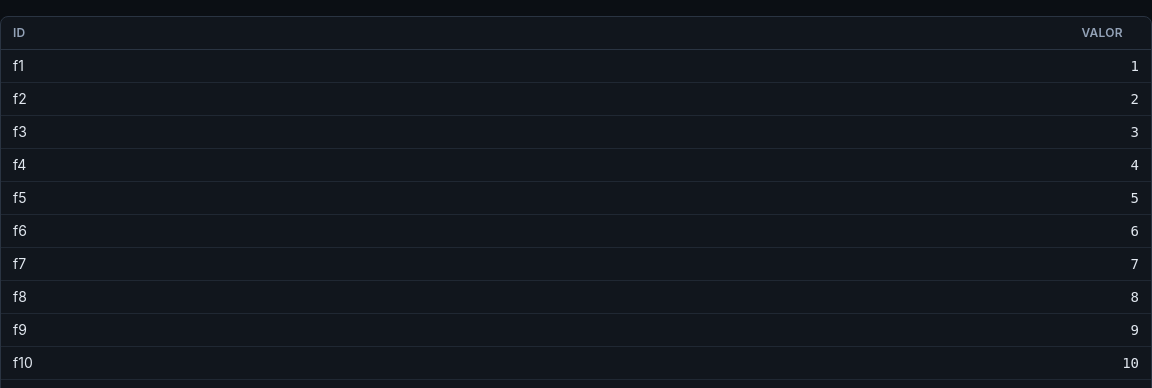
Test: TablaOrdenable con límite de filas › ordena TODAS las filas y después recorta (el mayor valor sale arriba aunque esté fuera de las primeras 20)
(page scrolled)
Click the button "Valor" at (1110, 33), box left=1081, top=25, right=1139, bottom=41
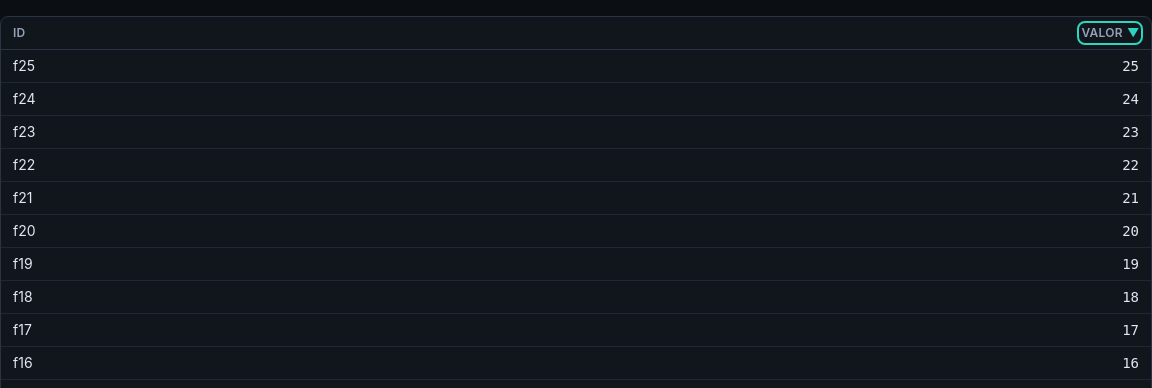
Now the cell "f25" is shown, box left=1, top=50, right=452, bottom=82
